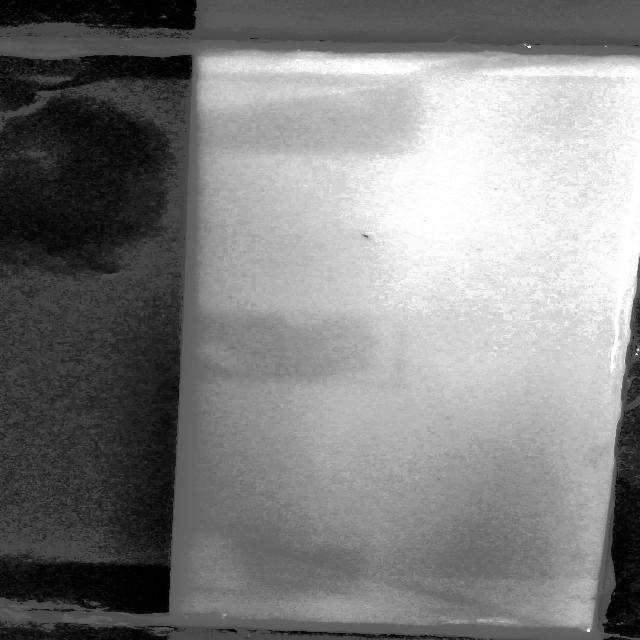shrimp: (344, 227, 378, 247)
